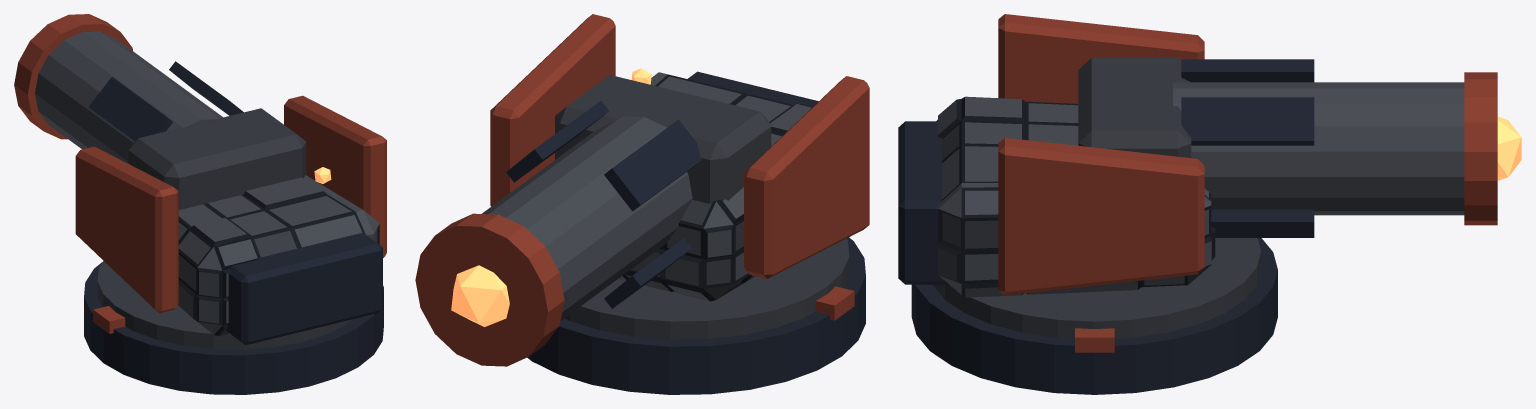
The model's file is turret_torpedo_bays.glb.
The picture shows the model from 3 angles, left to right: view 1: azimuth 30°, elevation 25°; view 2: azimuth 150°, elevation 25°; view 3: azimuth 270°, elevation 25°; orthographic projection. The views are drawn at different scales.
Parts seen in each view (by area): view 1: Yaw_mesh, Pitch_mesh, Base_mesh; view 2: Pitch_mesh, Yaw_mesh, Base_mesh; view 3: Yaw_mesh, Pitch_mesh, Base_mesh.
Part boxes in pixels (bbox=[...]): Yaw_mesh: bbox=[75, 95, 386, 345]; Pitch_mesh: bbox=[14, 14, 306, 209]; Base_mesh: bbox=[84, 261, 383, 394]; Pitch_mesh: bbox=[415, 75, 771, 366]; Yaw_mesh: bbox=[490, 14, 869, 301]; Base_mesh: bbox=[527, 237, 865, 394]; Yaw_mesh: bbox=[898, 14, 1215, 297]; Pitch_mesh: bbox=[1078, 58, 1521, 237]; Base_mesh: bbox=[911, 238, 1277, 394].
Size of the model in its own units: 1.12 by 0.7933 by 1.87.
